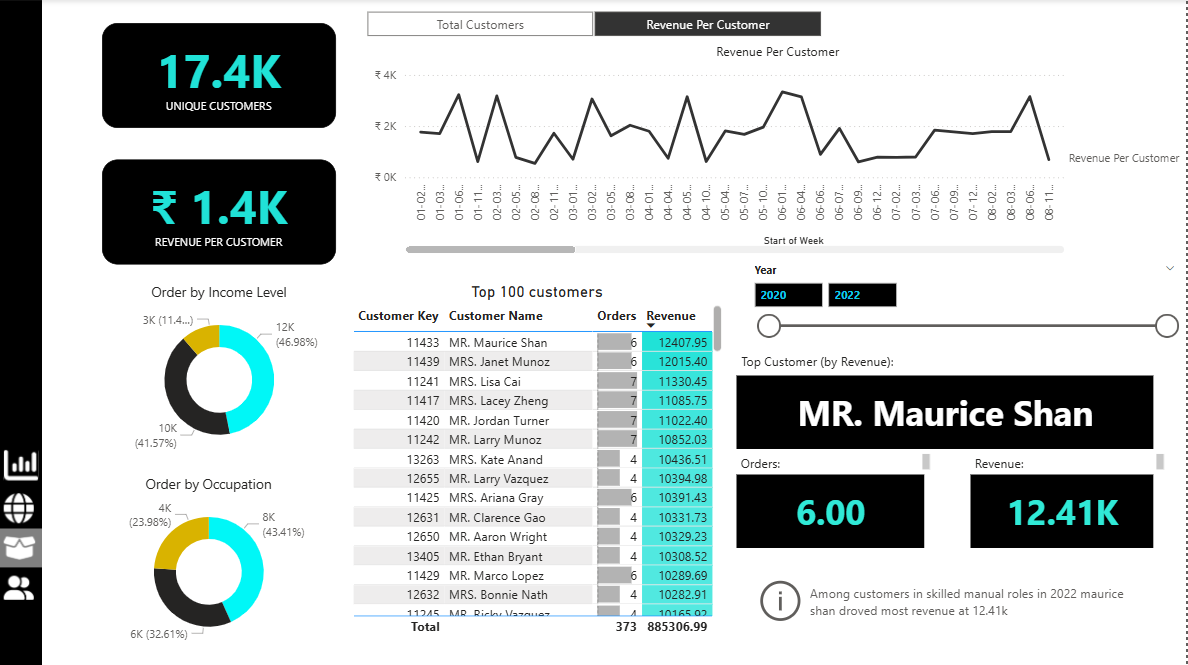

Layout of this report page (visuals, bound fields, positions):
{"tool":"powerbi","page":{"name":"CUSTOMER DETAIL","canvas":[1280,720],"ordinal":3},"visuals":[{"type":"shape","title":"Left Nav Background","box":[0,1.1,45.3,718.9],"z":0,"group":"g1"},{"type":"shape","title":"Left Nav Background","box":[0,1.6,45.3,718.9],"z":0},{"type":"card","fields":{"Values":["Measure Table.Average Revenue Per Customer"]},"box":[110.1,173.3,252.6,113.3],"z":1000},{"type":"actionButton","box":[0,529.5,45.3,40.5],"z":1000,"group":"g1"},{"type":"actionButton","box":[0,528.4,45.3,40.5],"z":2000},{"type":"actionButton","box":[0,615.3,45.3,40.5],"z":2000,"group":"g1"},{"type":"card","fields":{"Values":["Measure Table.Total Customers"]},"box":[110.1,25.9,252.6,113.3],"z":3000},{"type":"actionButton","box":[0,571.6,45.3,42.1],"z":3000,"group":"g1"},{"type":"actionButton","box":[0,479.3,45.3,48.6],"z":4000,"group":"g1"},{"type":"actionButton","box":[0,614.2,45.3,40.5],"z":4000},{"type":"lineChart","fields":{"Y":["Measure Table.Average Revenue Per Customer"],"Category":["Calendar Lookup.Date Hierarchy.Year","Calendar Lookup.Date Hierarchy.Start of Month","Calendar Lookup.Date Hierarchy.Start of Week"]},"box":[397.5,46.2,882.5,232.6],"z":5000},{"type":"actionButton","box":[0,570.5,45.3,42.1],"z":6000},{"type":"donutChart","title":"Order by Income Level","fields":{"Category":["Customer Lookup.Income Level"],"Y":["Measure Table.Total Orders"]},"box":[110.1,306,252.6,189.4],"z":7000},{"type":"donutChart","title":"Order by Occupation","fields":{"Y":["Measure Table.Total Orders"],"Category":["Customer Lookup.Occupation"]},"box":[98.8,513.3,252.6,189.4],"z":8000},{"type":"tableEx","title":"Top 100 customers","fields":{"Values":["Customer Lookup.CustomerKey","Customer Lookup.Customer Full Name (CC)","Measure Table.Total Orders","Measure Table.Total Revenue"]},"box":[375.7,306,408,385.4],"z":9000},{"type":"card","fields":{"Values":["Customer Lookup.Full Name(customer details)"]},"box":[795,406.4,450.1,79.3],"z":10000},{"type":"card","fields":{"Values":["Measure Table.Total Revenue (Customer Detail)"]},"box":[1047.6,513.3,197.5,79.3],"z":11000},{"type":"card","fields":{"Values":["Measure Table.Total Order (customer details)"]},"box":[795,513.3,202.4,79.3],"z":12000},{"type":"textbox","box":[794.5,375.7,213.7,30.8],"z":13000},{"type":"textbox","box":[794.5,485.8,213.7,27.5],"z":14000},{"type":"textbox","box":[1047.1,485.8,213.7,27.5],"z":15000},{"type":"slicer","fields":{"Values":["Calendar Lookup.Date.Variation.Date Hierarchy.Year"]},"box":[801.5,278.5,479.3,97.2],"z":16000},{"type":"actionButton","box":[814.6,622,431.4,55.8],"z":17000},{"type":"group","id":"g1","title":"Navigation buttons","box":[0,1.1,45.3,718.9],"z":18000},{"type":"slicer","fields":{"Values":["Customer Metric Section.Customer Metric Section"]},"box":[370.8,6.5,539.2,40.5],"z":19000}]}

Visuals, with their boxes in screenshot pixels (x1, y1, x2, y2), scaled from the page's 1280x720 canvas onto the 1188x665 screenshot:
"Left Nav Background" shape: detection(0, 1, 42, 664)
"Left Nav Background" shape: detection(0, 1, 42, 664)
card - Measure Table.Average Revenue Per Customer: detection(102, 160, 337, 265)
actionButton: detection(0, 489, 42, 526)
actionButton: detection(0, 488, 42, 525)
actionButton: detection(0, 568, 42, 606)
card - Measure Table.Total Customers: detection(102, 24, 337, 129)
actionButton: detection(0, 528, 42, 567)
actionButton: detection(0, 443, 42, 488)
actionButton: detection(0, 567, 42, 605)
lineChart - Measure Table.Average Revenue Per Customer x Calendar Lookup.Date Hierarchy.Year: detection(369, 43, 1187, 258)
actionButton: detection(0, 527, 42, 566)
"Order by Income Level" donutChart: detection(102, 283, 337, 458)
"Order by Occupation" donutChart: detection(92, 474, 326, 649)
"Top 100 customers" tableEx: detection(349, 283, 727, 639)
card - Customer Lookup.Full Name(customer details): detection(738, 375, 1156, 449)
card - Measure Table.Total Revenue (Customer Detail): detection(972, 474, 1156, 547)
card - Measure Table.Total Order (customer details): detection(738, 474, 926, 547)
textbox: detection(737, 347, 936, 375)
textbox: detection(737, 449, 936, 474)
textbox: detection(972, 449, 1170, 474)
slicer - Calendar Lookup.Date.Variation.Date Hierarchy.Year: detection(744, 257, 1187, 347)
actionButton: detection(756, 574, 1156, 626)
"Navigation buttons" group: detection(0, 1, 42, 664)
slicer - Customer Metric Section.Customer Metric Section: detection(344, 6, 845, 43)
